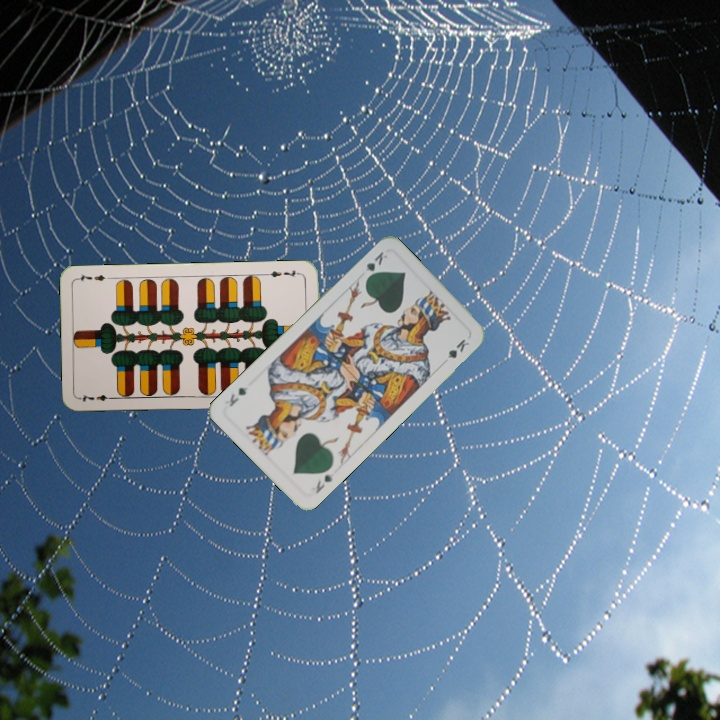E7: (263, 266, 303, 280), (77, 390, 117, 404)
GK: (361, 247, 390, 283), (311, 470, 335, 496)
